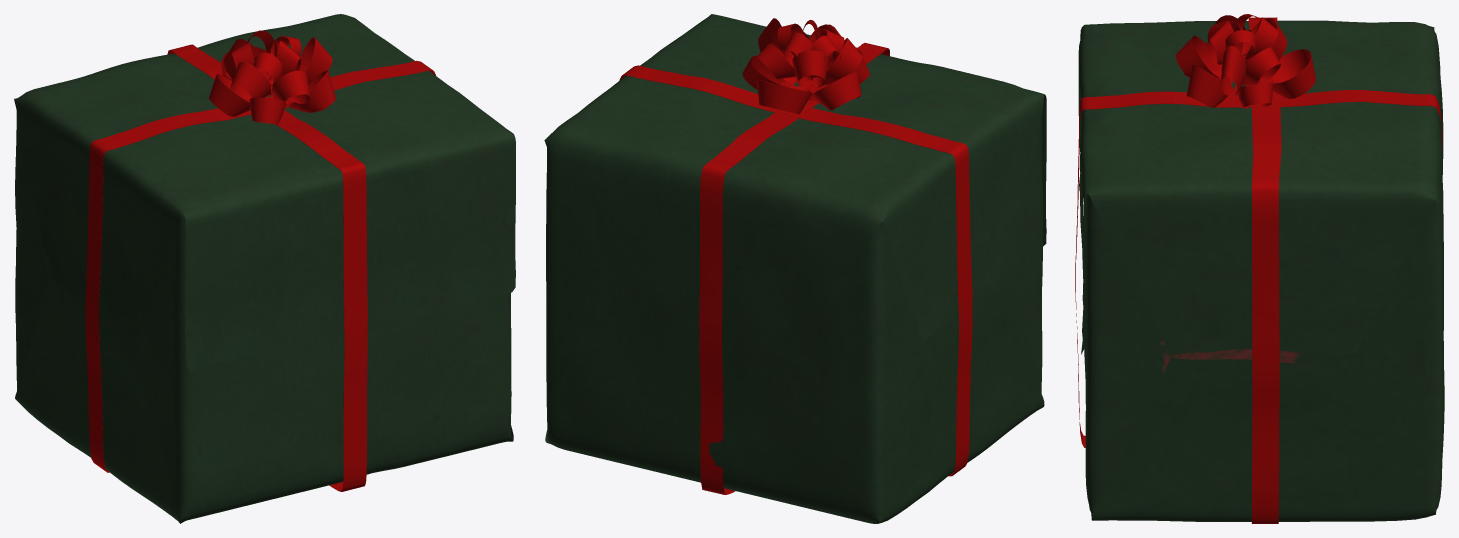
Rendered from present1.obj.
The picture shows the model from 3 angles, left to right: view 1: azimuth 30°, elevation 25°; view 2: azimuth 150°, elevation 25°; view 3: azimuth 270°, elevation 25°; orthographic projection. The views are drawn at different scales.
Visible parts, largest first — view 1: present1:pasted__grouppasted__polySurface2634group2; view 2: present1:pasted__grouppasted__polySurface2634group2; view 3: present1:pasted__grouppasted__polySurface2634group2.
Part boxes in pixels (x1,y1,x2,y2): present1:pasted__grouppasted__polySurface2634group2: [14, 14, 515, 523]; present1:pasted__grouppasted__polySurface2634group2: [544, 14, 1046, 523]; present1:pasted__grouppasted__polySurface2634group2: [1075, 14, 1444, 523].
Size of the model in its own units: 2.74 by 3.06 by 2.42.
Materials: 3 (3 with a texture image).
